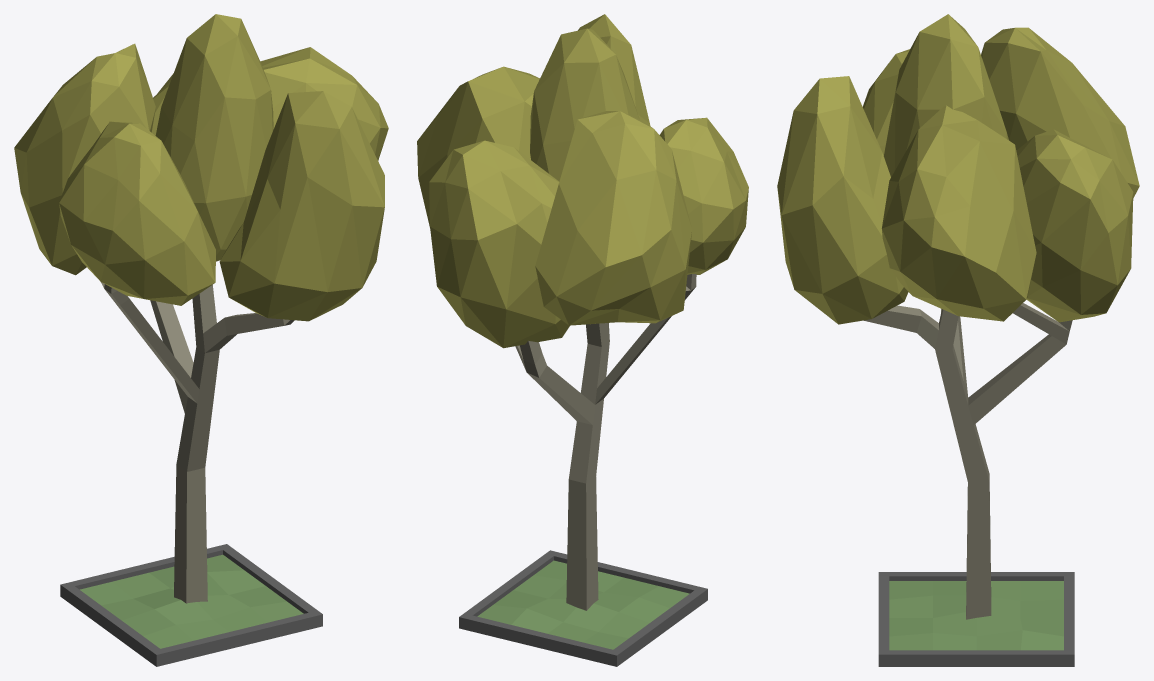
The model's file is tree.fbx.
3 renders of one model, left to right at view 1: azimuth 30°, elevation 25°; view 2: azimuth 150°, elevation 25°; view 3: azimuth 270°, elevation 25°, orthographic. The views are drawn at different scales.
Parts seen in each view (by area): view 1: Plane; view 2: Plane; view 3: Plane.
Part boxes in pixels (x1=…): Plane: x1=14, y1=14, x2=388, y2=666; Plane: x1=417, y1=14, x2=748, y2=666; Plane: x1=777, y1=14, x2=1139, y2=666.
Bounding box in the file's own units: 235 × 417 × 222.
